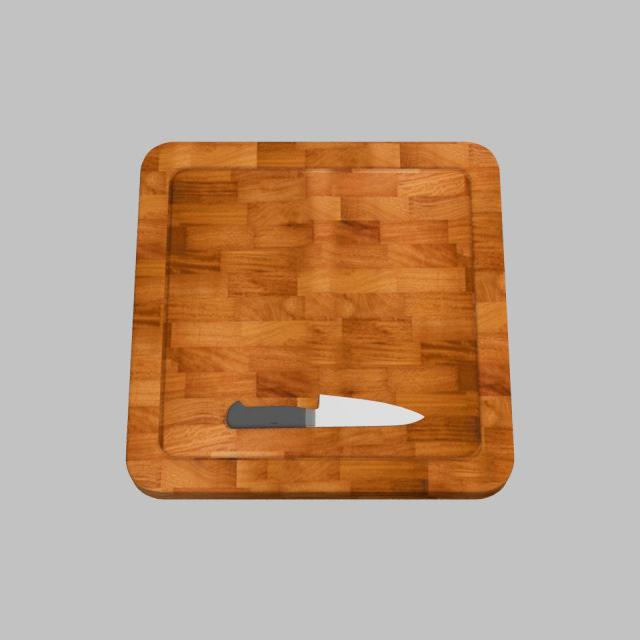knife: (226, 402, 306, 429)
